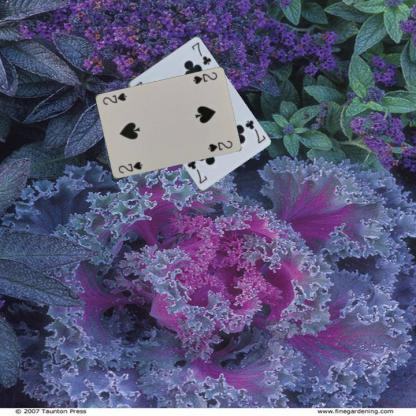2s: (190, 70, 218, 86), (115, 160, 144, 174)
7c: (242, 118, 266, 144)
